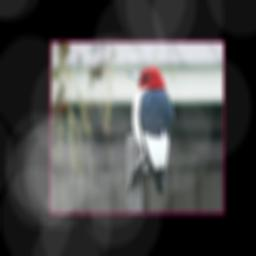Woodpecker: (125, 63, 175, 199)
